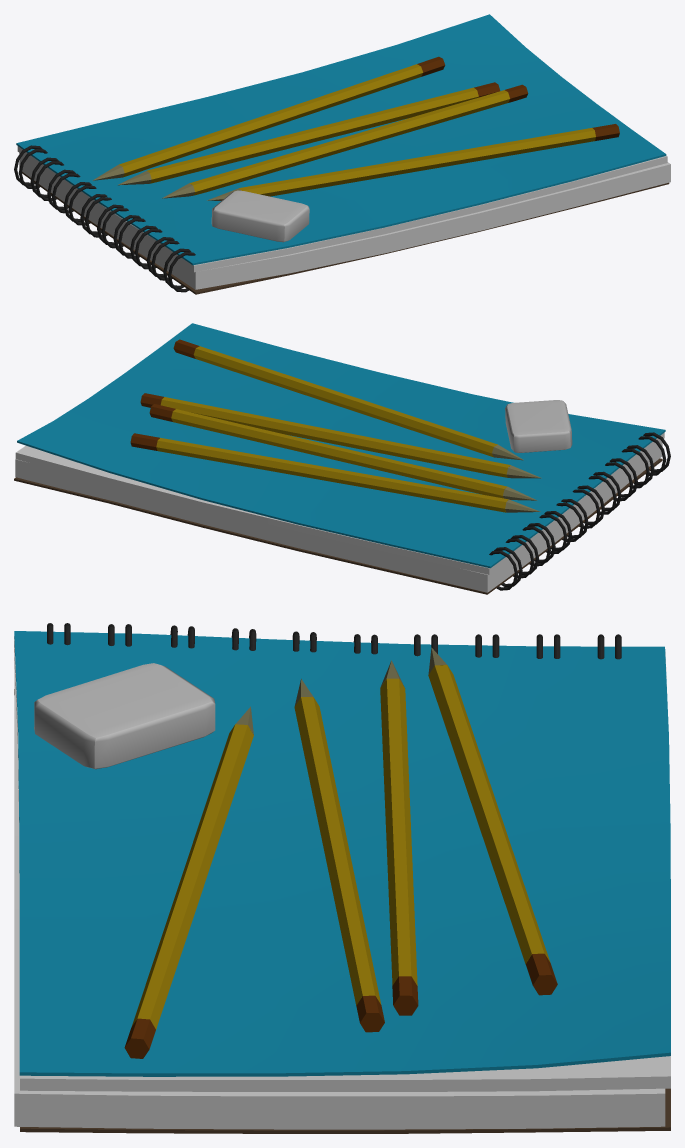
File: sketchbook-transformed.glb
The picture shows the model from 3 angles, top to bottom: view 1: azimuth 30°, elevation 25°; view 2: azimuth 150°, elevation 25°; view 3: azimuth 270°, elevation 25°; orthographic projection. The views are drawn at different scales.
Visible parts, largest first — view 1: pCube4, pCube1, pCylinder4, pCylinder2, pCylinder1, pCylinder3, pCube3, pCube6, pCube5, pTorus12, pTorus4, pTorus5 (+7 smaller); view 2: pCube4, pCube1, pCylinder3, pCube3, pCylinder2, pCylinder1, pCylinder4, pCube6, pCube5, pTorus3, pTorus6, pTorus4 (+7 smaller); view 3: pCube4, pCube1, pCube6, pCube3, pCylinder4, pCylinder1, pCylinder2, pCylinder3, pCube5.
Boxes of the visible parts, x1,y1,x2,y2 form: pCube4: [16, 14, 666, 265]; pCube1: [19, 153, 670, 289]; pCylinder4: [207, 124, 619, 200]; pCylinder2: [117, 82, 500, 185]; pCylinder1: [162, 84, 528, 198]; pCylinder3: [92, 56, 445, 180]; pCube3: [17, 146, 667, 272]; pCube6: [211, 190, 309, 242]; pCube5: [22, 172, 669, 294]; pTorus12: [163, 248, 195, 292]; pTorus4: [30, 157, 63, 201]; pTorus5: [47, 169, 80, 213]; pCube4: [17, 323, 665, 568]; pCube1: [15, 441, 662, 592]; pCylinder3: [130, 433, 540, 512]; pCube3: [15, 432, 664, 574]; pCylinder2: [149, 404, 537, 500]; pCylinder1: [140, 393, 541, 478]; pCylinder4: [173, 339, 523, 460]; pCube6: [505, 400, 572, 452]; pCube5: [14, 458, 662, 594]; pTorus3: [489, 547, 522, 590]; pTorus6: [539, 511, 571, 554]; pTorus4: [505, 535, 538, 578]; pCube4: [14, 631, 670, 1076]; pCube1: [14, 661, 665, 1129]; pCube6: [34, 663, 215, 769]; pCube3: [14, 636, 670, 1091]; pCylinder4: [124, 706, 253, 1058]; pCylinder1: [294, 679, 384, 1032]; pCylinder2: [380, 660, 418, 1015]; pCylinder3: [428, 647, 557, 995]; pCube5: [14, 689, 670, 1133].
Bounding box in the file's own units: 6.29 × 0.6717 × 3.93.
